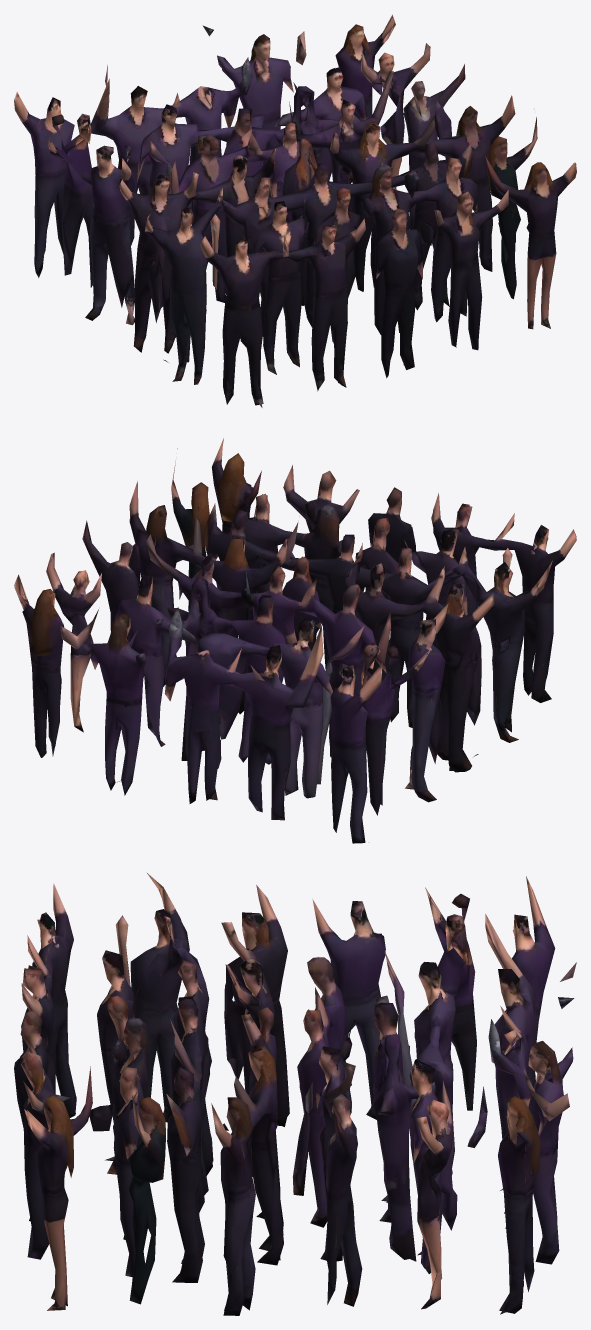
File: crowd-block-s1.lo.glb
3 renders of one model, top to bottom at view 1: azimuth 30°, elevation 25°; view 2: azimuth 150°, elevation 25°; view 3: azimuth 270°, elevation 25°, orthographic. The views are drawn at different scales.
Visible parts, largest first — view 1: geometry_0; view 2: geometry_0; view 3: geometry_0.
Boxes of the visible parts, x1=… form: geometry_0: x1=14, y1=14, x2=576, y2=407; geometry_0: x1=14, y1=438, x2=576, y2=843; geometry_0: x1=14, y1=873, x2=576, y2=1315.
Bounding box in the file's own units: 0.9797 × 0.4788 × 0.9748.
1 material, 1 textured.
